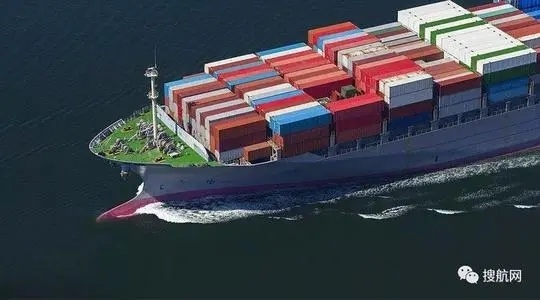Cargoship: (81, 1, 540, 231)
